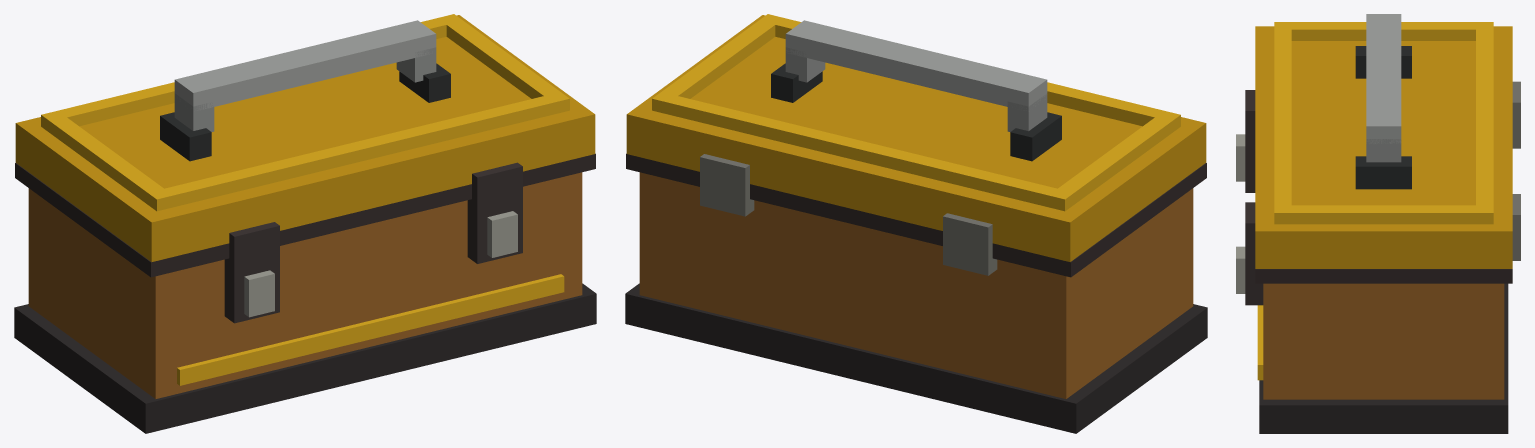
File: CMU3DElectricalToolbox.glb
The picture shows the model from 3 angles, left to right: view 1: azimuth 30°, elevation 25°; view 2: azimuth 150°, elevation 25°; view 3: azimuth 270°, elevation 25°; orthographic projection. The views are drawn at different scales.
Visible parts, largest first — view 1: colored box body, closed lid, dark lower shell, lid end bevel (×2), raised carry handle, lid seam, front lower strengthening lip, latch housing (×2), lid side bevel (×2), handle mounting pivot (×2), steel latch (×2), raised handle left (+1 smaller); view 2: colored box body, closed lid, dark lower shell, lid end bevel (×2), raised carry handle, lid seam, lid side bevel (×2), rear hinge (×2), handle mounting pivot (×2), raised handle left, raised handle right; view 3: closed lid, colored box body, dark lower shell, lid side bevel (×2), lid end bevel (×2), raised carry handle, lid seam, handle mounting pivot (×2), latch housing (×2), rear hinge (×2), steel latch (×2), raised handle right (+1 smaller).
Part boxes in pixels (box(x1,y1,x2,y2)): colored box body: box(28, 172, 582, 398); closed lid: box(15, 15, 595, 261); dark lower shell: box(14, 283, 596, 433); lid end bevel (×2): box(58, 18, 553, 206); raised carry handle: box(174, 20, 436, 110); lid seam: box(15, 153, 595, 277); front lower strengthening lip: box(177, 274, 564, 385); latch housing (×2): box(224, 162, 522, 323); lid side bevel (×2): box(41, 14, 569, 211); handle mounting pivot (×2): box(160, 63, 450, 161); steel latch (×2): box(244, 211, 517, 317); raised handle left: box(174, 93, 214, 131); colored box body: box(639, 172, 1193, 398); closed lid: box(626, 15, 1206, 261); dark lower shell: box(625, 283, 1207, 433); lid end bevel (×2): box(668, 18, 1163, 206); raised carry handle: box(785, 20, 1047, 111); lid seam: box(626, 153, 1206, 277); lid side bevel (×2): box(652, 14, 1180, 211); rear hinge (×2): box(700, 154, 997, 275); handle mounting pivot (×2): box(771, 63, 1061, 161); raised handle left: box(1007, 93, 1047, 131); raised handle right: box(785, 47, 825, 82); closed lid: box(1255, 26, 1512, 268); colored box body: box(1263, 283, 1504, 399); dark lower shell: box(1259, 283, 1508, 433); lid side bevel (×2): box(1274, 22, 1493, 224); lid end bevel (×2): box(1274, 29, 1493, 205); raised carry handle: box(1366, 14, 1401, 143); lid seam: box(1255, 269, 1512, 283); handle mounting pivot (×2): box(1355, 46, 1411, 189); latch housing (×2): box(1245, 90, 1263, 305); rear hinge (×2): box(1512, 81, 1520, 260); steel latch (×2): box(1236, 134, 1245, 293); raised handle right: box(1366, 139, 1401, 162).
Bounding box in the file's own units: 0.594 × 0.345 × 0.343.
